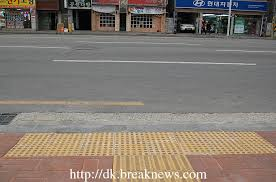guide_blocks: (8, 132, 276, 155), (111, 155, 200, 182)
